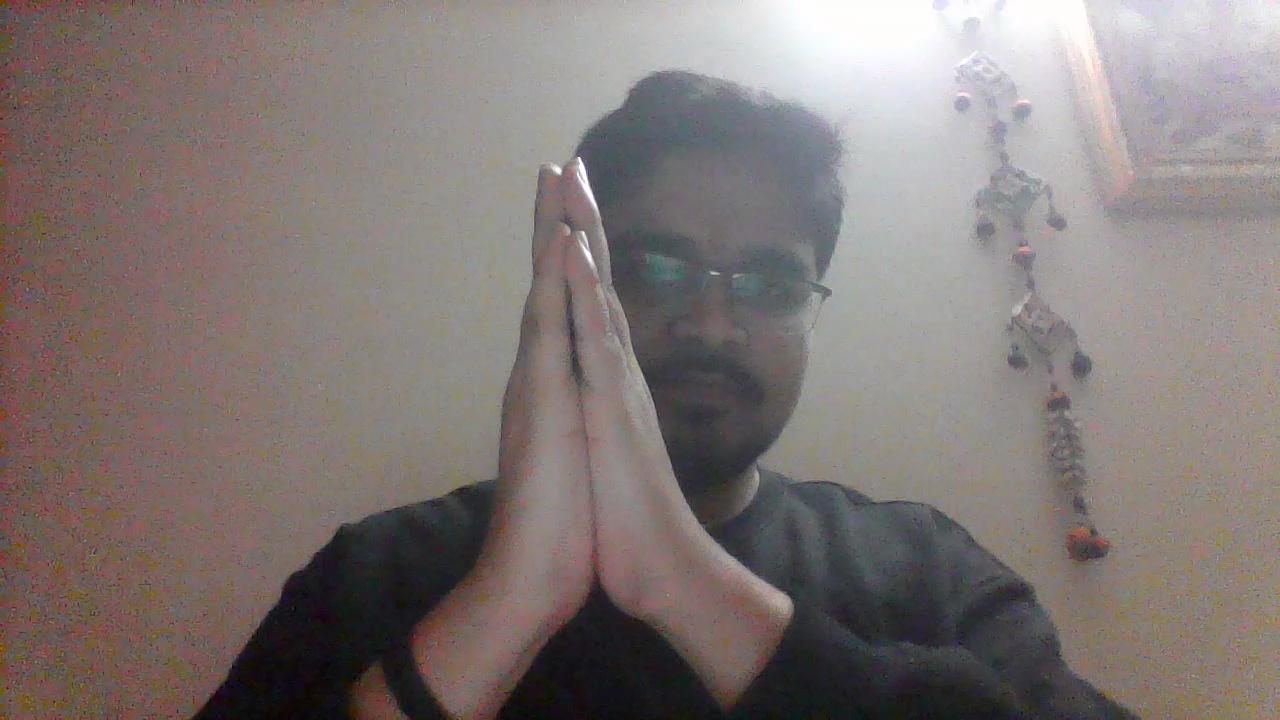Namaste: (445, 150, 712, 643)
